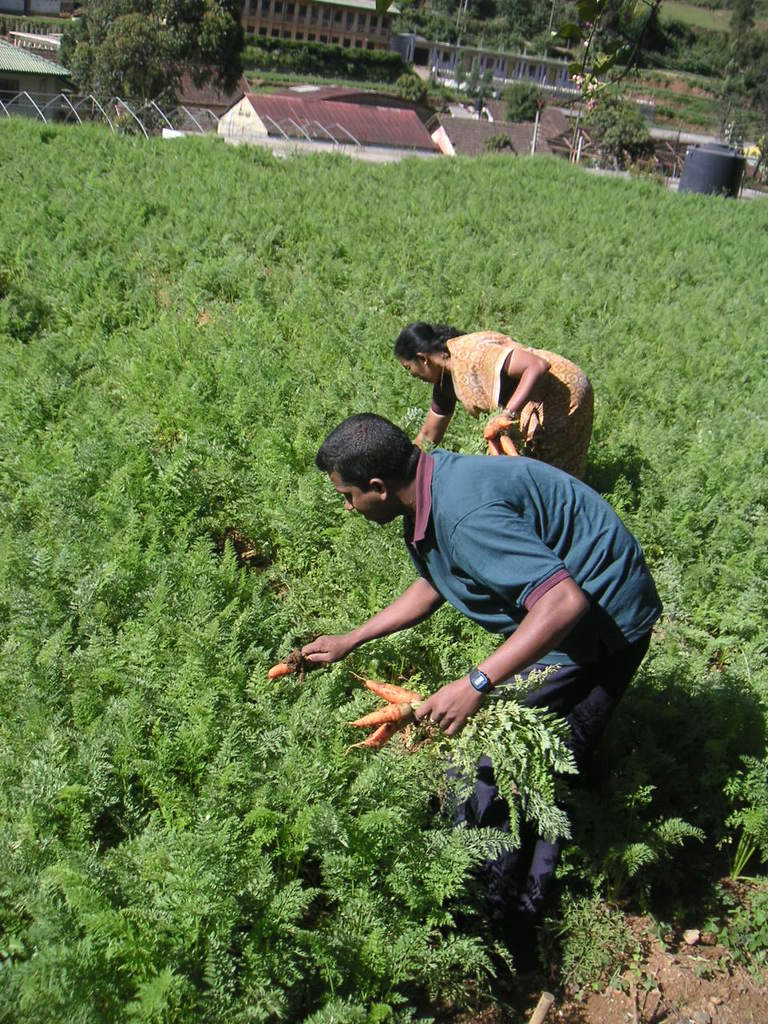person: (392, 319, 595, 466)
